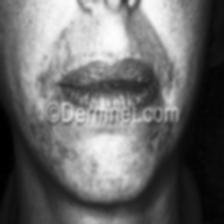Non-Cancerous Skin Condition: (30, 102, 51, 159), (146, 124, 174, 154), (54, 145, 70, 181)
